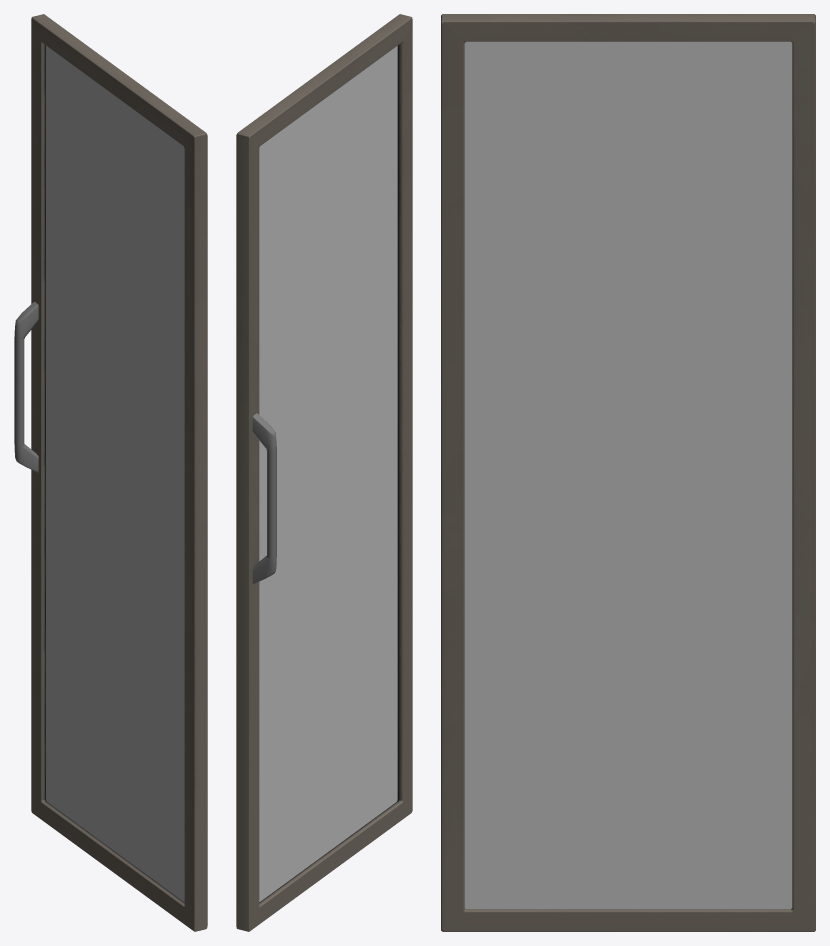
File: SM_Freezer_02_Door.fbx
The picture shows the model from 3 angles, left to right: view 1: azimuth 30°, elevation 25°; view 2: azimuth 150°, elevation 25°; view 3: azimuth 270°, elevation 25°; orthographic projection. The views are drawn at different scales.
Parts seen in each view (by area): view 1: SM_Freezer_02_Door_LOD0; view 2: SM_Freezer_02_Door_LOD0; view 3: SM_Freezer_02_Door_LOD0.
Boxes of the visible parts, x1,y1,x2,y2 form: SM_Freezer_02_Door_LOD0: (14, 14, 207, 931); SM_Freezer_02_Door_LOD0: (236, 14, 412, 931); SM_Freezer_02_Door_LOD0: (441, 14, 815, 931).
Bounding box in the file's own units: 7.94 × 64 × 172.
